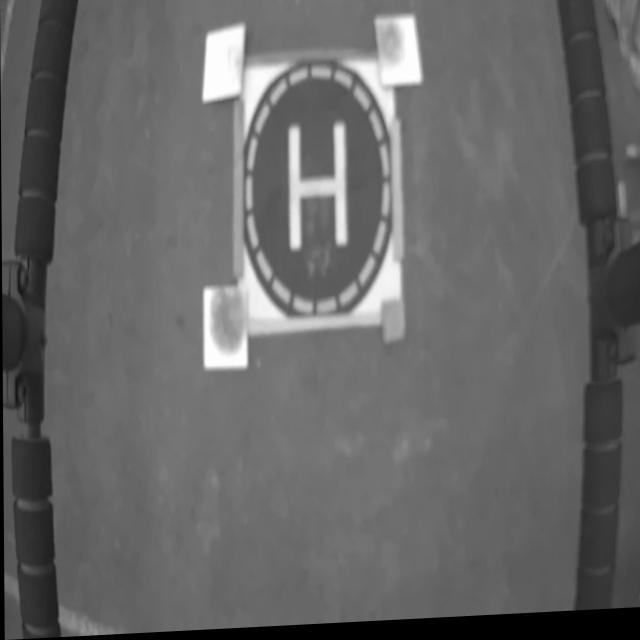Helipad: (288, 126, 349, 255)
